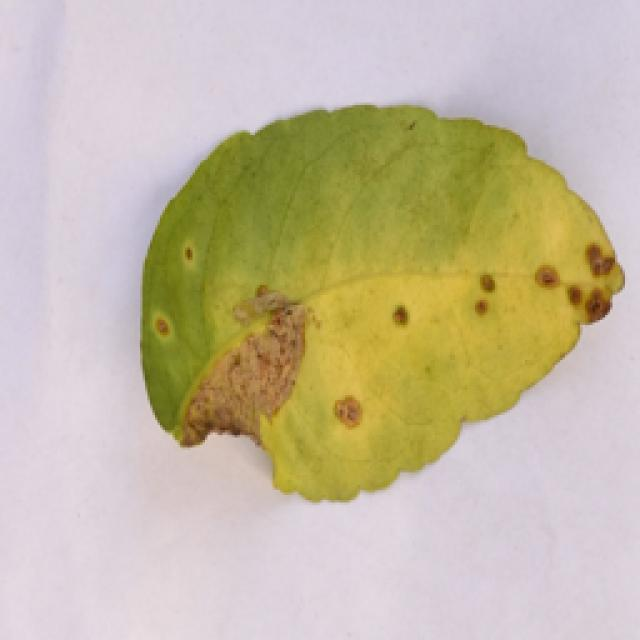canker: (141, 114, 609, 508)
